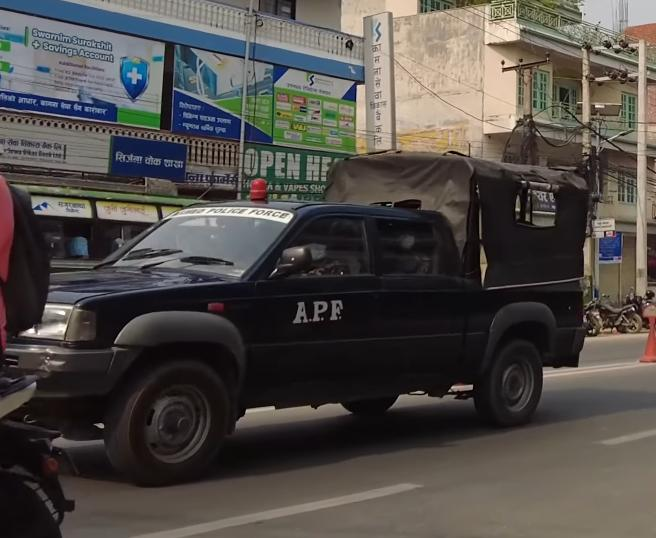police_vehicle: (0, 143, 598, 495)
